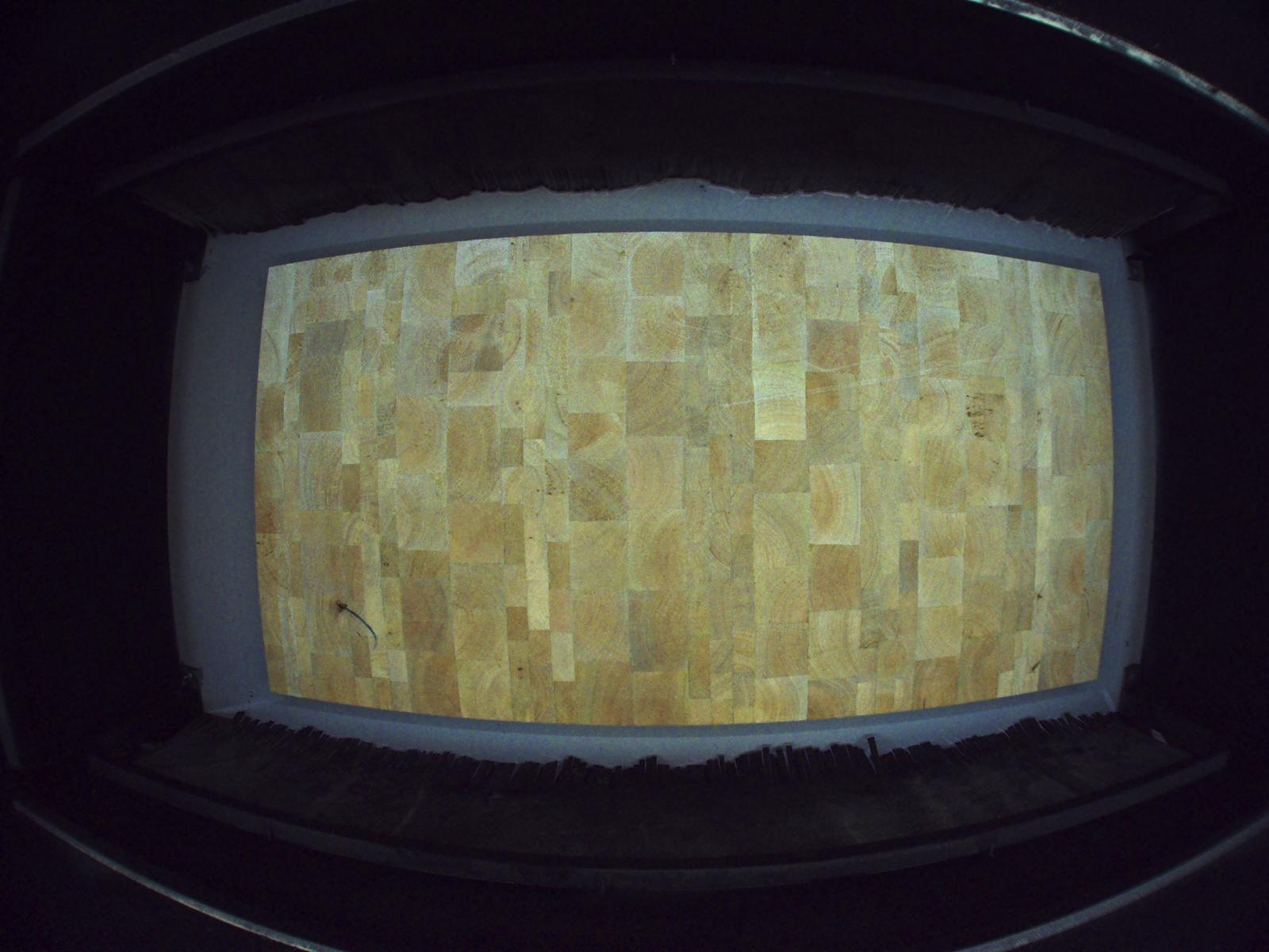nudillo: (334, 599, 347, 614)
